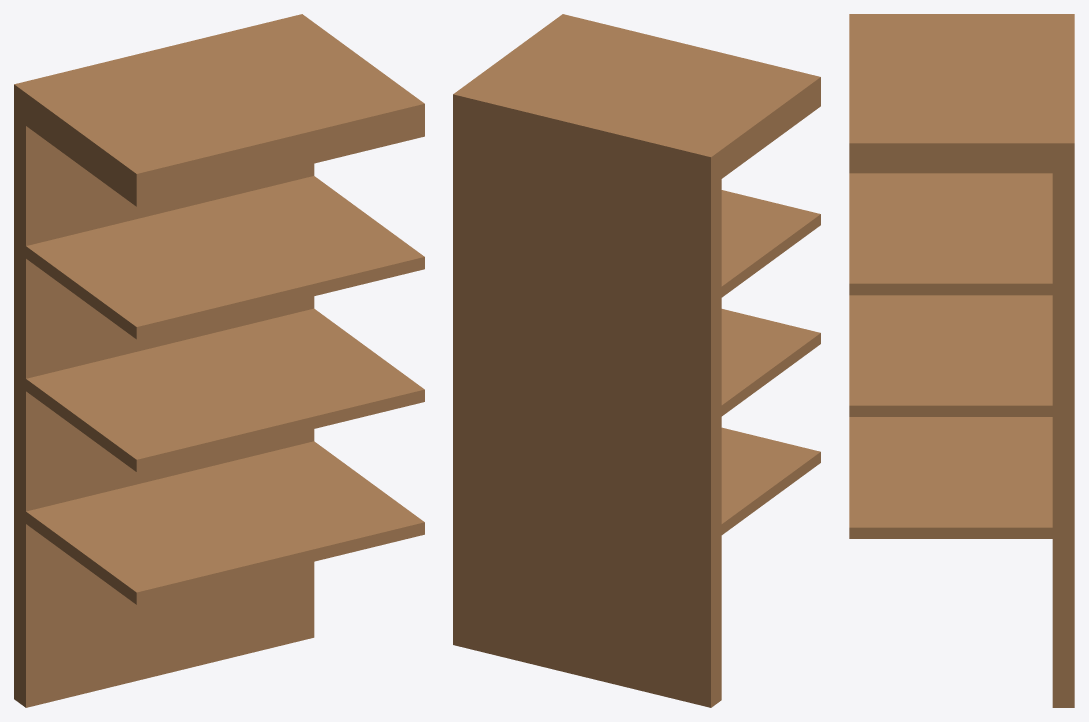
Rendered from Cupboard 4.fbx.
The picture shows the model from 3 angles, left to right: view 1: azimuth 30°, elevation 25°; view 2: azimuth 150°, elevation 25°; view 3: azimuth 270°, elevation 25°; orthographic projection. The views are drawn at different scales.
Visible parts, largest first — view 1: Cupboard 4; view 2: Cupboard 4; view 3: Cupboard 4.
Boxes of the visible parts, <box> form: Cupboard 4: <box>14,14,424,707</box>; Cupboard 4: <box>453,14,820,707</box>; Cupboard 4: <box>849,14,1074,707</box>.
Bounding box in the file's own units: 200 × 408 × 147.
